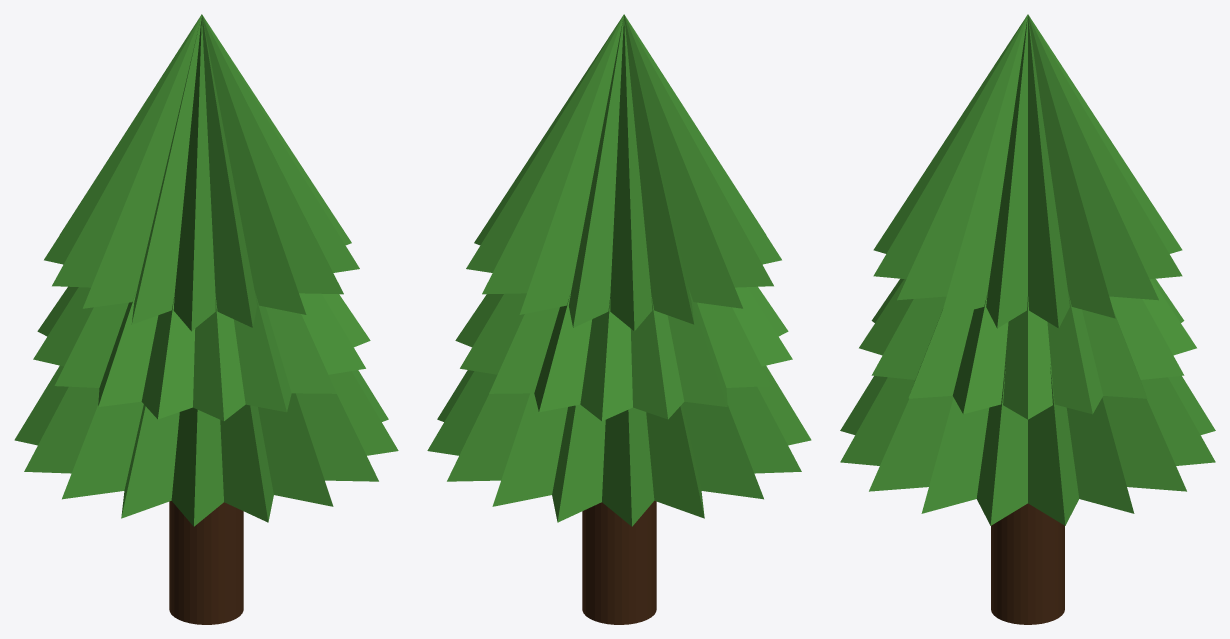
Rendered from Tree.fbx.
3 views of the same model, side by side, from view 1: azimuth 30°, elevation 25°; view 2: azimuth 150°, elevation 25°; view 3: azimuth 270°, elevation 25° (orthographic).
Visible parts, largest first — view 1: Tree; view 2: Tree; view 3: Tree.
Boxes of the visible parts, x1,y1,x2,y2 form: Tree: (14, 14, 398, 624); Tree: (427, 14, 811, 624); Tree: (840, 14, 1215, 624).
Size of the model in its own units: 232 by 405 by 232.
